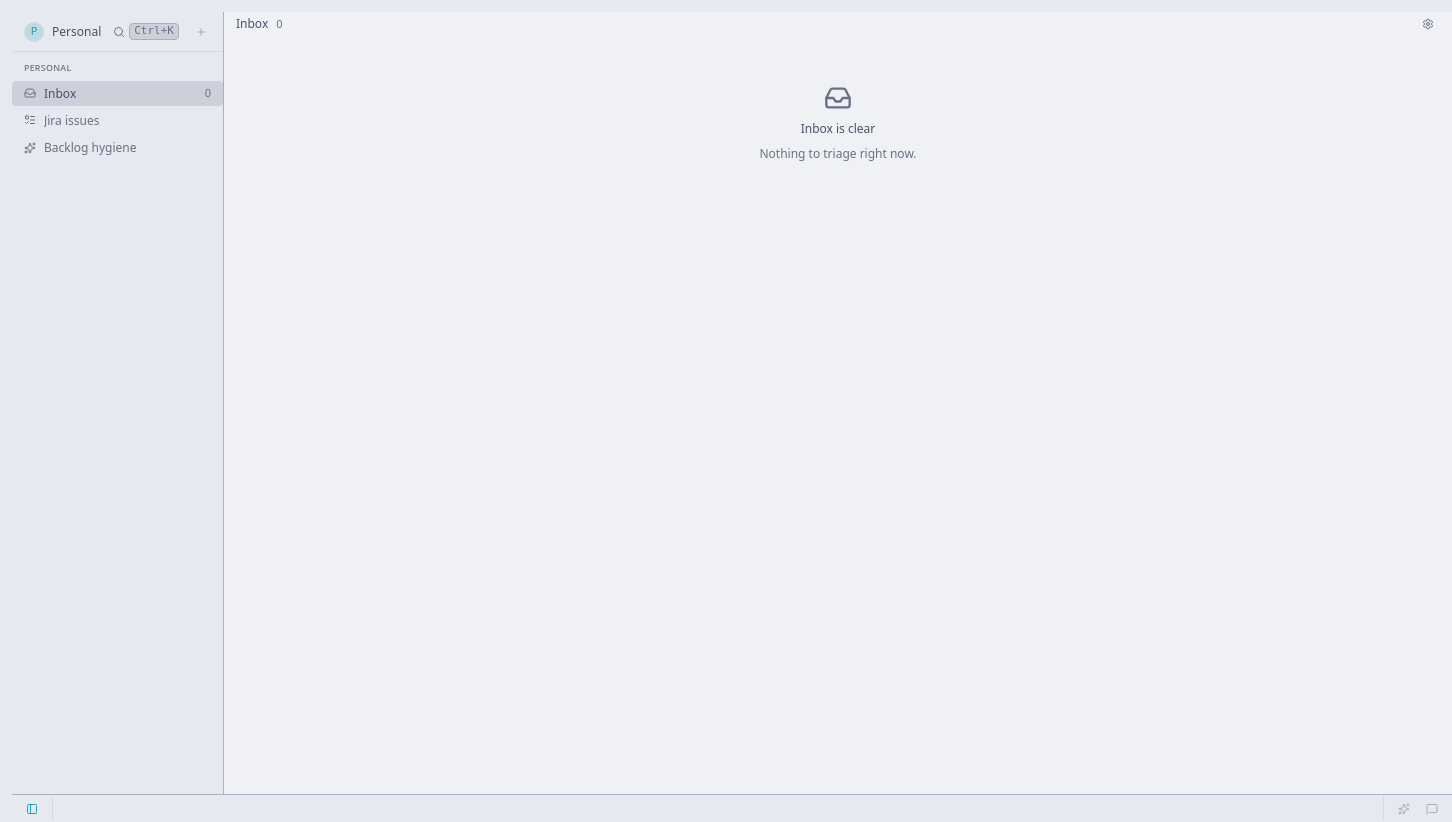
it: App / Backlog hygiene navigation › navigates to Backlog hygiene page when nav item is clicked
Click the button "Backlog hygiene". click: (118, 147)
box: left=12, top=135, right=223, bottom=160
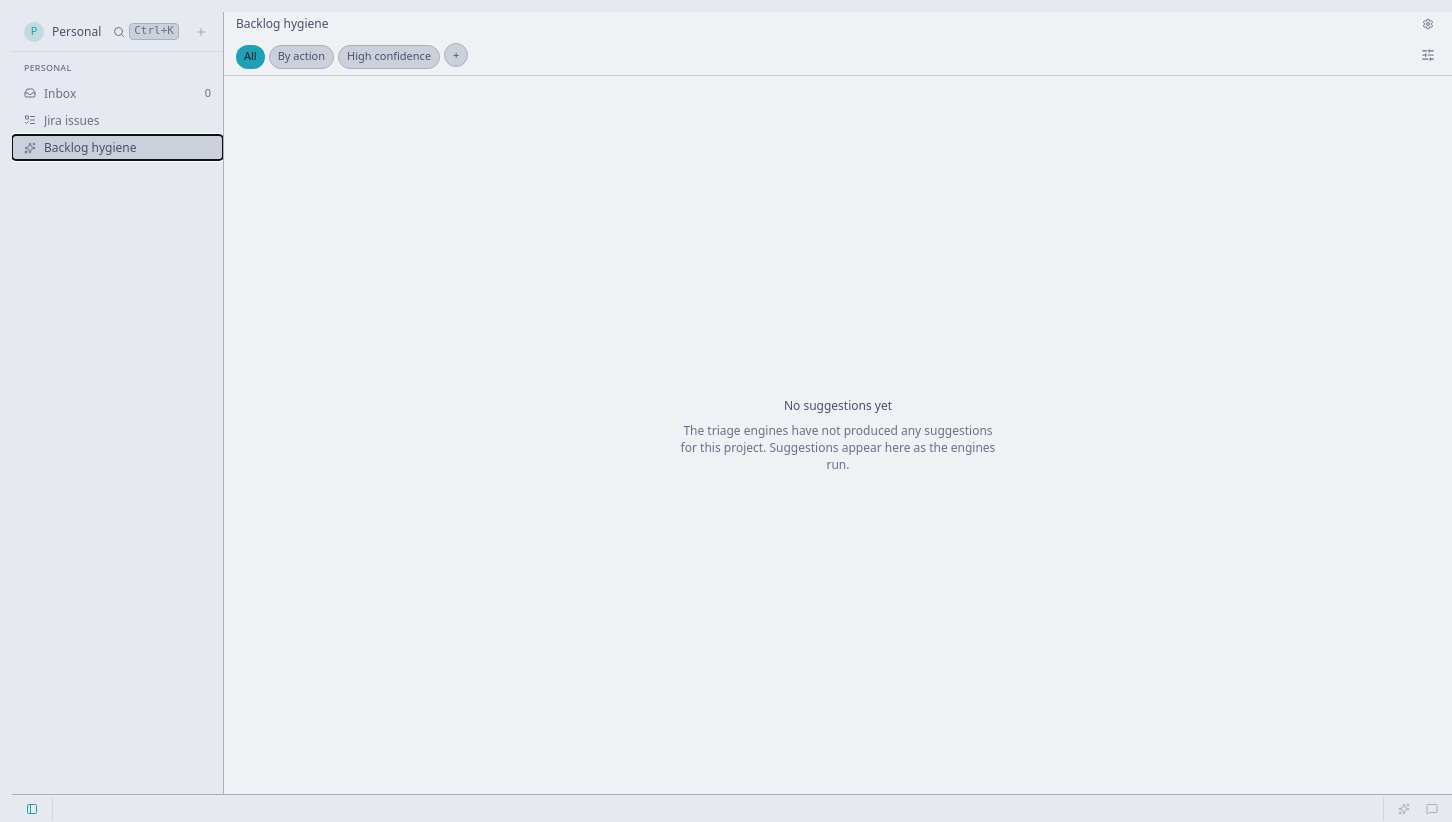
Expected: the button "All" is shown, left=236, top=45, right=265, bottom=69
